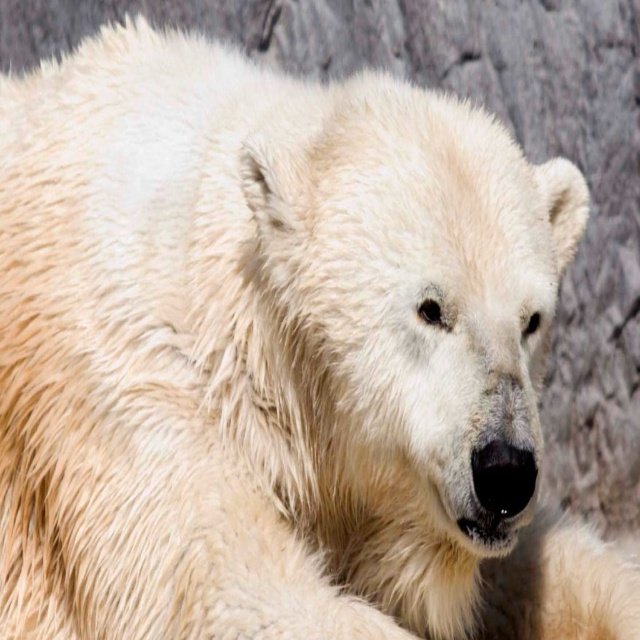Polar bear: (0, 9, 640, 640)
